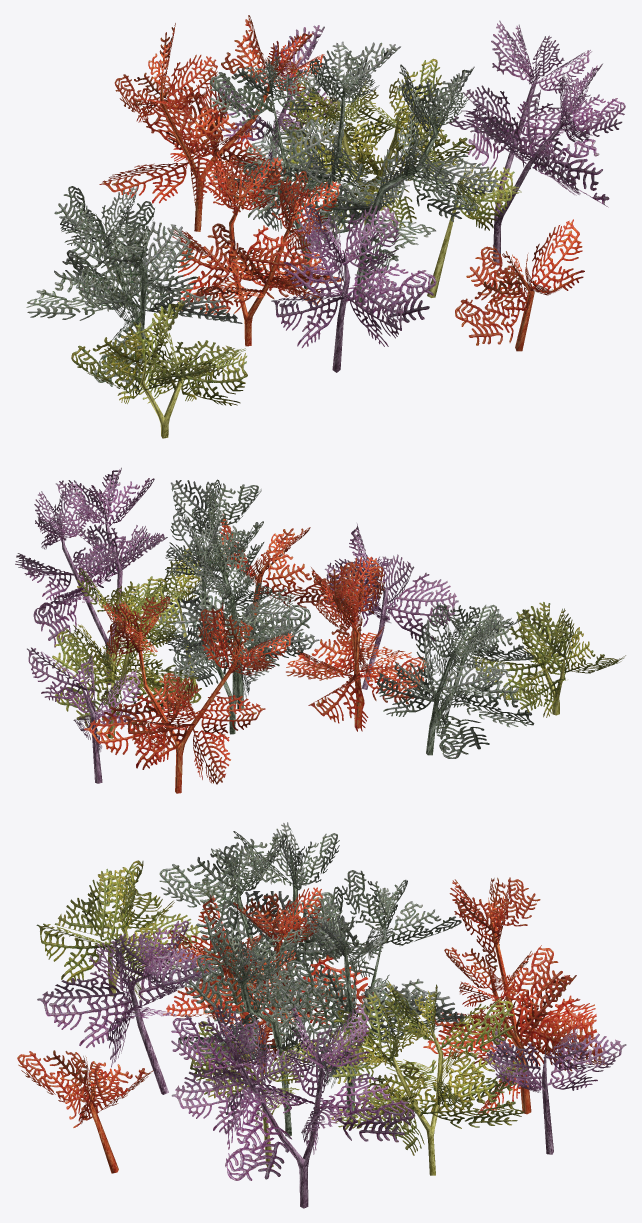
The model's file is fan_coral_cluster_low.glb.
The picture shows the model from 3 angles, top to bottom: view 1: azimuth 30°, elevation 25°; view 2: azimuth 150°, elevation 25°; view 3: azimuth 270°, elevation 25°; orthographic projection. The views are drawn at different scales.
Parts seen in each view (by area): view 1: LOD0_FanCoral_Cluster_Low_Mat_0, LOD0_FanCoralSkin_Orange_Mat_0, LOD0_FanCoralSkin_White_Mat_0, LOD0_FanCoralSkin_Violet_Mat_0, LOD0_FanCoralSkin_Yellow_Mat_0; view 2: LOD0_FanCoral_Cluster_Low_Mat_0, LOD0_FanCoralSkin_Orange_Mat_0, LOD0_FanCoralSkin_White_Mat_0, LOD0_FanCoralSkin_Violet_Mat_0, LOD0_FanCoralSkin_Yellow_Mat_0; view 3: LOD0_FanCoral_Cluster_Low_Mat_0, LOD0_FanCoralSkin_Violet_Mat_0, LOD0_FanCoralSkin_White_Mat_0, LOD0_FanCoralSkin_Orange_Mat_0, LOD0_FanCoralSkin_Yellow_Mat_0.
Boxes of the visible parts, left/top/right/bottom form: LOD0_FanCoral_Cluster_Low_Mat_0: left=26, top=15, right=625, bottom=405; LOD0_FanCoralSkin_Orange_Mat_0: left=159, top=51, right=534, bottom=351; LOD0_FanCoralSkin_White_Mat_0: left=95, top=71, right=438, bottom=360; LOD0_FanCoralSkin_Violet_Mat_0: left=267, top=62, right=575, bottom=372; LOD0_FanCoralSkin_Yellow_Mat_0: left=140, top=111, right=467, bottom=438; LOD0_FanCoral_Cluster_Low_Mat_0: left=15, top=467, right=625, bottom=784; LOD0_FanCoralSkin_Orange_Mat_0: left=138, top=556, right=362, bottom=793; LOD0_FanCoralSkin_White_Mat_0: left=202, top=517, right=476, bottom=755; LOD0_FanCoralSkin_Violet_Mat_0: left=60, top=507, right=388, bottom=783; LOD0_FanCoralSkin_Yellow_Mat_0: left=107, top=569, right=565, bottom=738; LOD0_FanCoral_Cluster_Low_Mat_0: left=17, top=822, right=626, bottom=1180; LOD0_FanCoralSkin_Violet_Mat_0: left=128, top=972, right=553, bottom=1208; LOD0_FanCoralSkin_White_Mat_0: left=236, top=845, right=389, bottom=1136; LOD0_FanCoralSkin_Orange_Mat_0: left=88, top=897, right=531, bottom=1173; LOD0_FanCoralSkin_Yellow_Mat_0: left=107, top=902, right=443, bottom=1175.
Bounding box in the file's own units: 0.1752 × 0.0652 × 0.1474.
5 materials, 5 textured.
